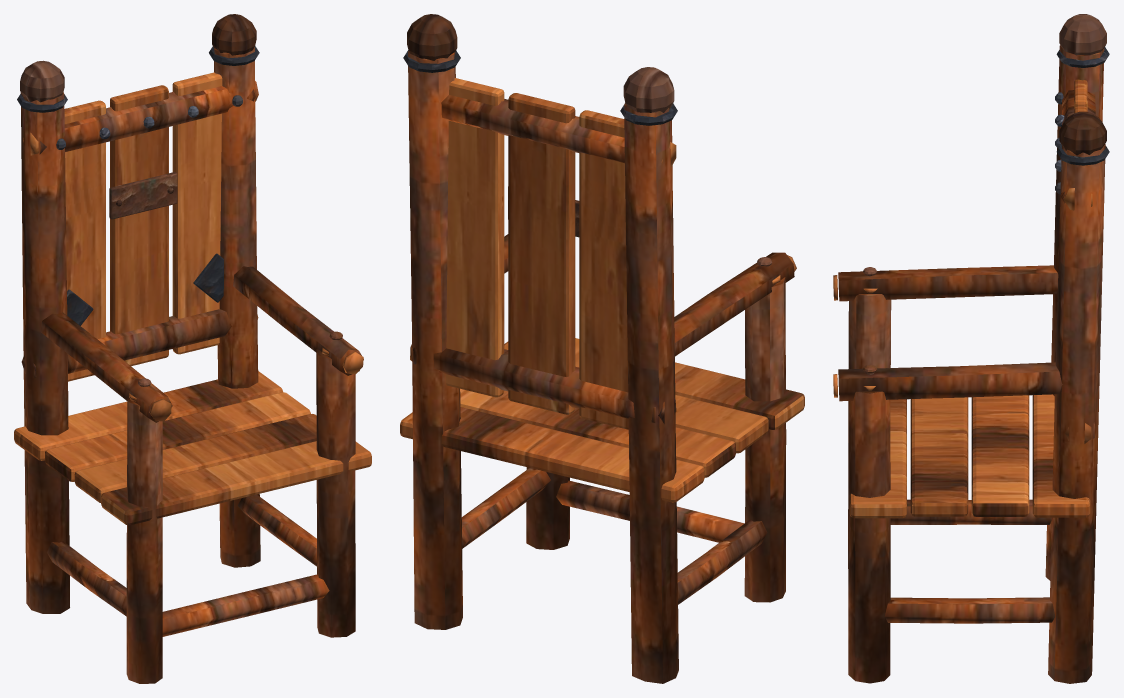
The model's file is mg_gatekeeper_chair.glb.
3 renders of one model, left to right at view 1: azimuth 30°, elevation 25°; view 2: azimuth 150°, elevation 25°; view 3: azimuth 270°, elevation 25°, orthographic. The views are drawn at different scales.
Parts seen in each view (by area): view 1: model; view 2: model; view 3: model.
Boxes of the visible parts, x1=… form: model: x1=14, y1=14, x2=371, y2=683; model: x1=400, y1=14, x2=804, y2=683; model: x1=833, y1=14, x2=1109, y2=683.
Size of the model in its own units: 0.6686 by 1.39 by 0.6231.
Materials: 15 (15 with a texture image).
